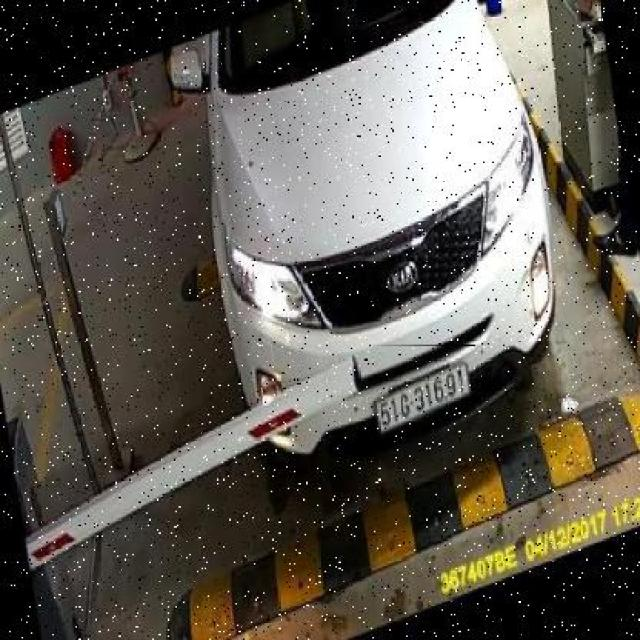number_plate: (366, 344, 476, 448)
